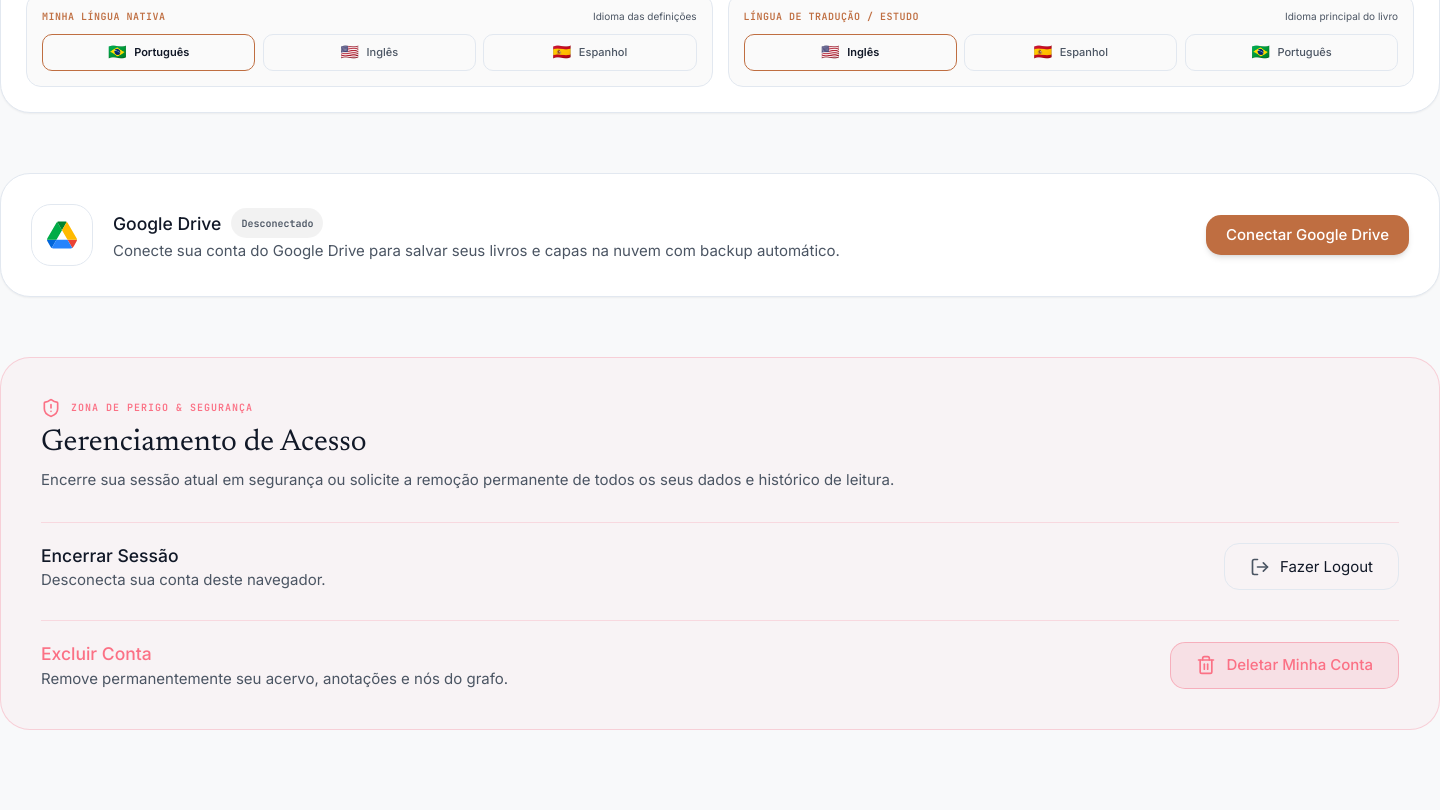
it: Conta Page (/conta) › opens logout confirmation modal when clicking logout button
(page scrolled)
Click the button with test id "logout-btn" at (1312, 567), box 1224,543 -> 1399,590
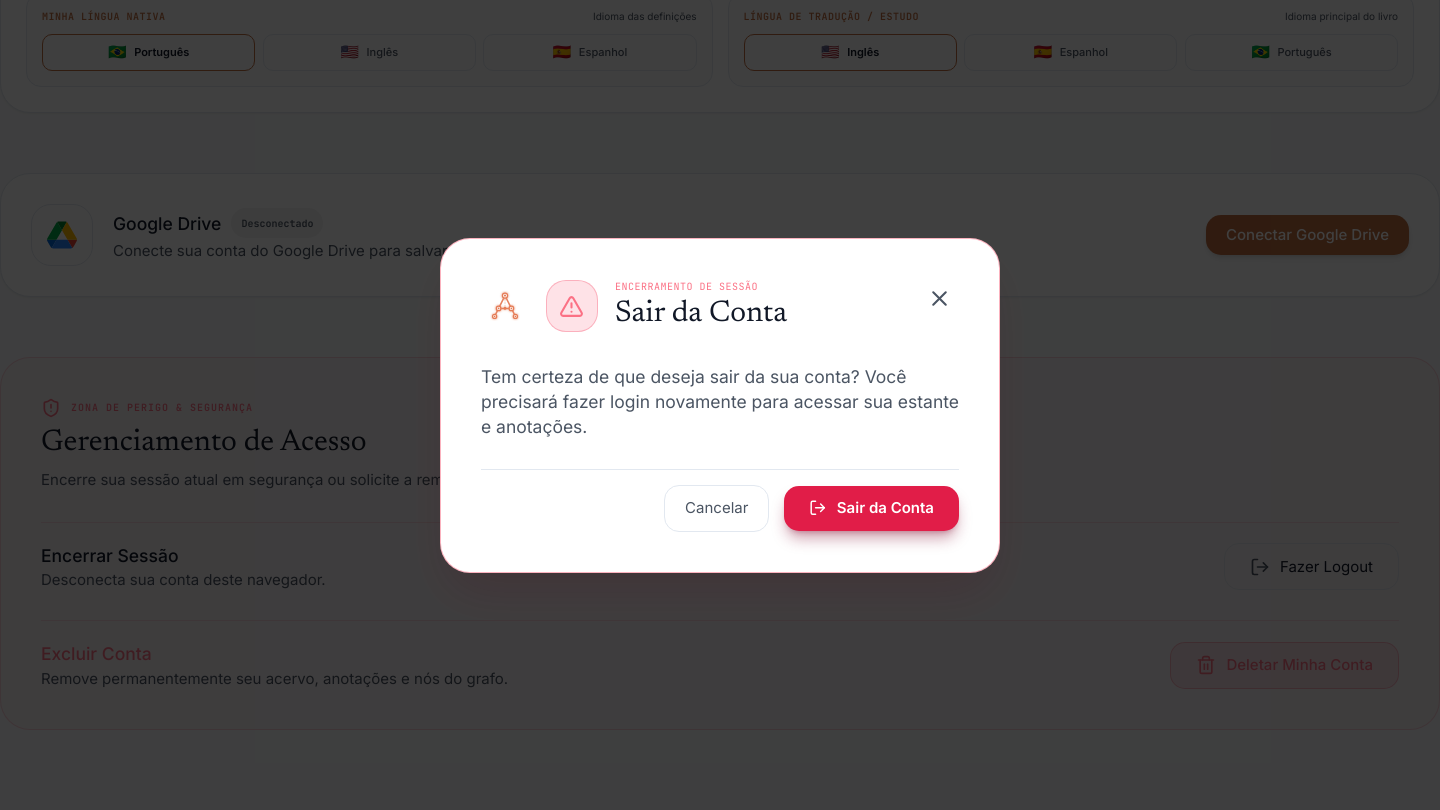
Check: the text "Sair da Conta" is shown, box 615,296 -> 787,334
Check: the text "Encerramento de Sessão" is shown, box 615,280 -> 758,292
